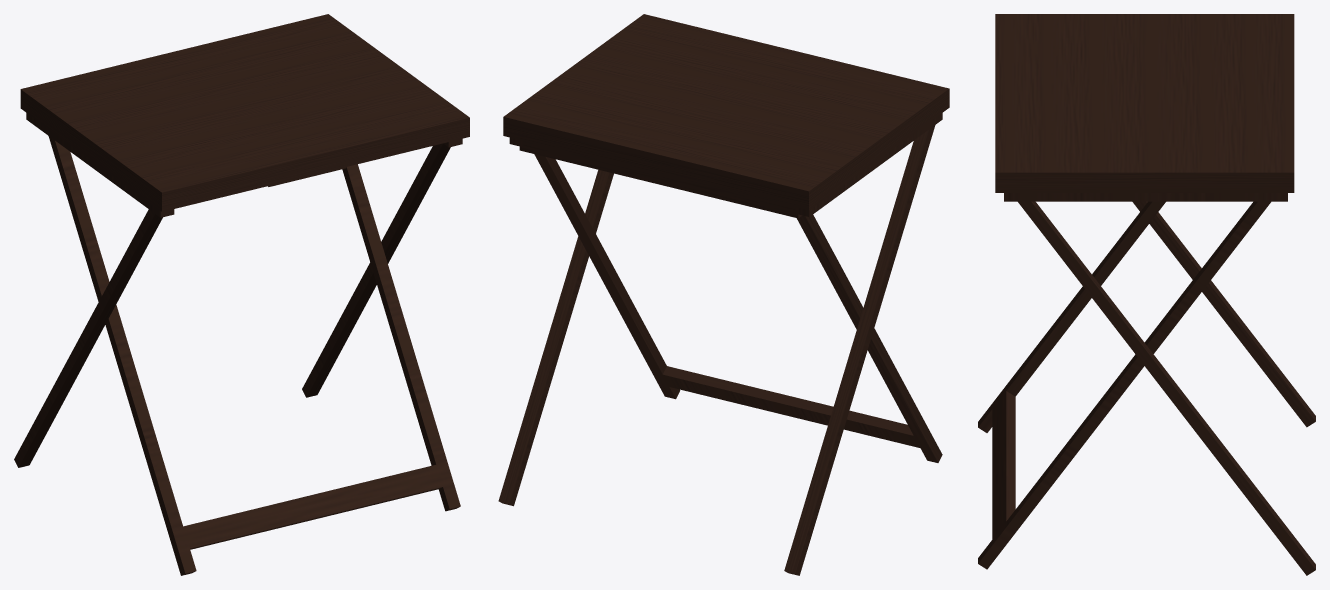
Rendered from Tv_Tray_C.FBX.
The picture shows the model from 3 angles, left to right: view 1: azimuth 30°, elevation 25°; view 2: azimuth 150°, elevation 25°; view 3: azimuth 270°, elevation 25°; orthographic projection. The views are drawn at different scales.
Visible parts, largest first — view 1: Tv_Tray; view 2: Tv_Tray; view 3: Tv_Tray.
Boxes of the visible parts, x1,y1,x2,y2 form: Tv_Tray: (14, 14, 469, 575); Tv_Tray: (498, 14, 949, 575); Tv_Tray: (978, 14, 1315, 575).
Bounding box in the file's own units: 100 × 120 × 90.36.
